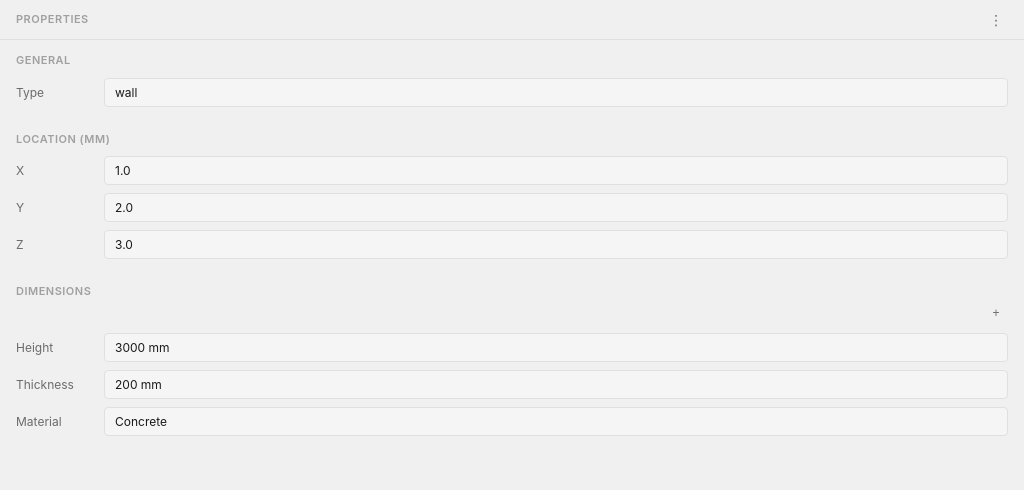
Test: T-UI-003: PropertiesPanel › adds a new property row when Add Property is clicked
Click the button titled "add property". click: click(996, 313)
box: [984,301,1008,325]
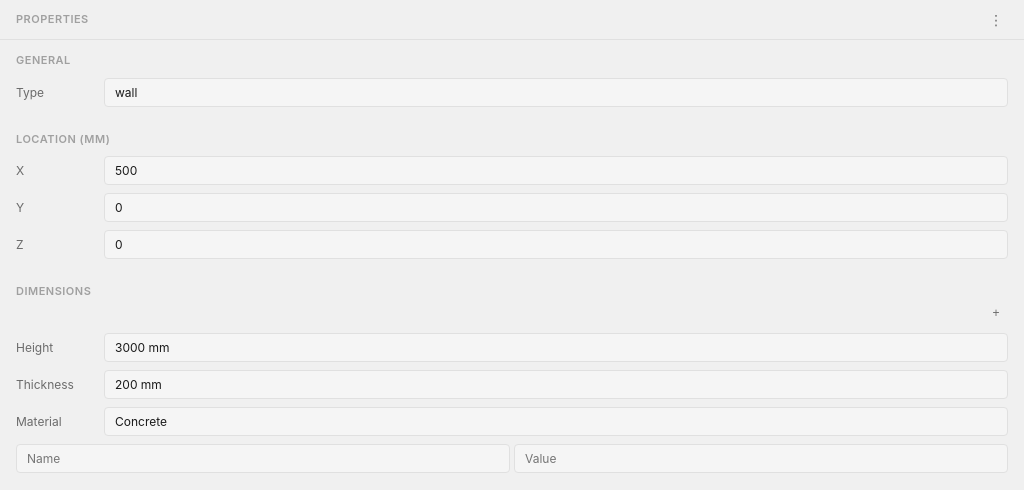
Now the field with placeholder "Name" is shown, box [16,444,510,473]
